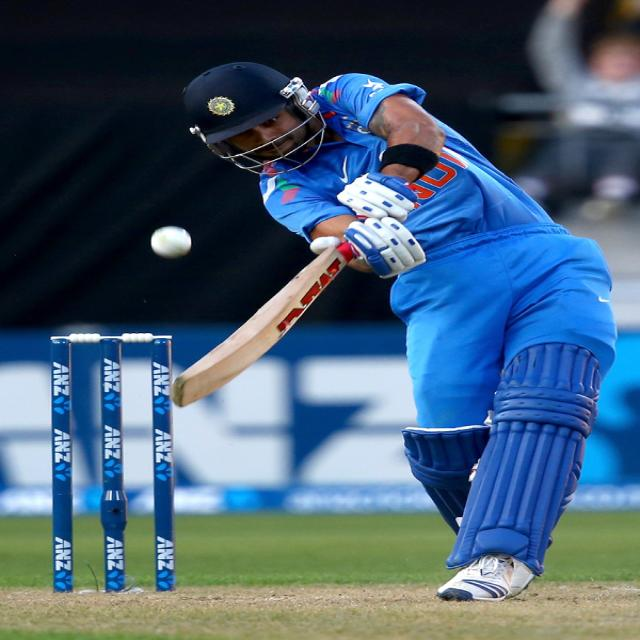ball: (144, 226, 194, 260)
stump: (49, 329, 179, 597)
